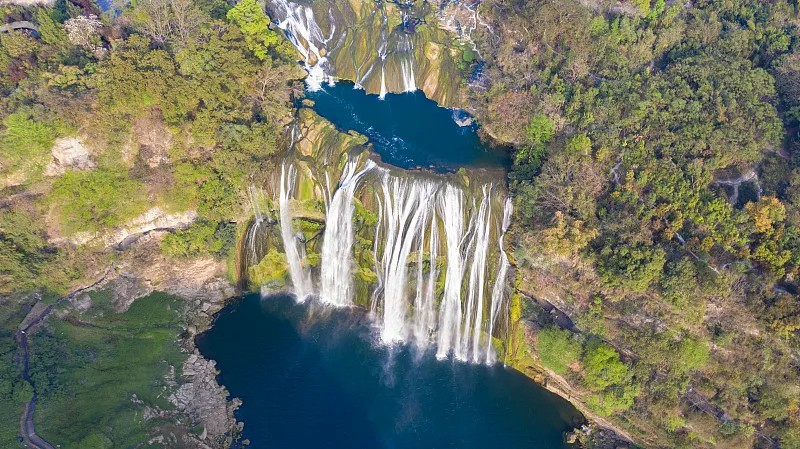Huangguoshu: (248, 125, 511, 366)
